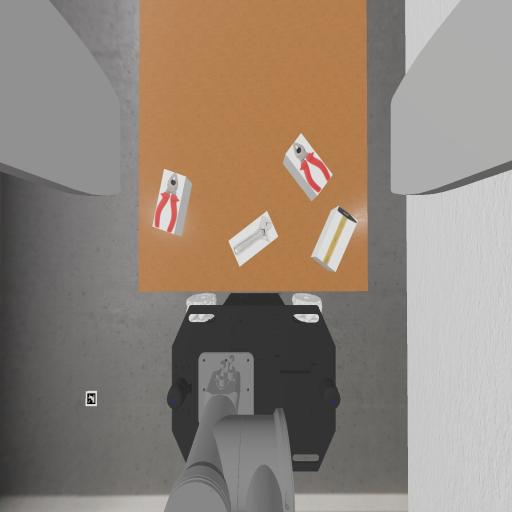hammer: (324, 207, 357, 264)
pliers: (294, 143, 330, 192), (155, 173, 178, 232)
wrench: (234, 217, 272, 254)
